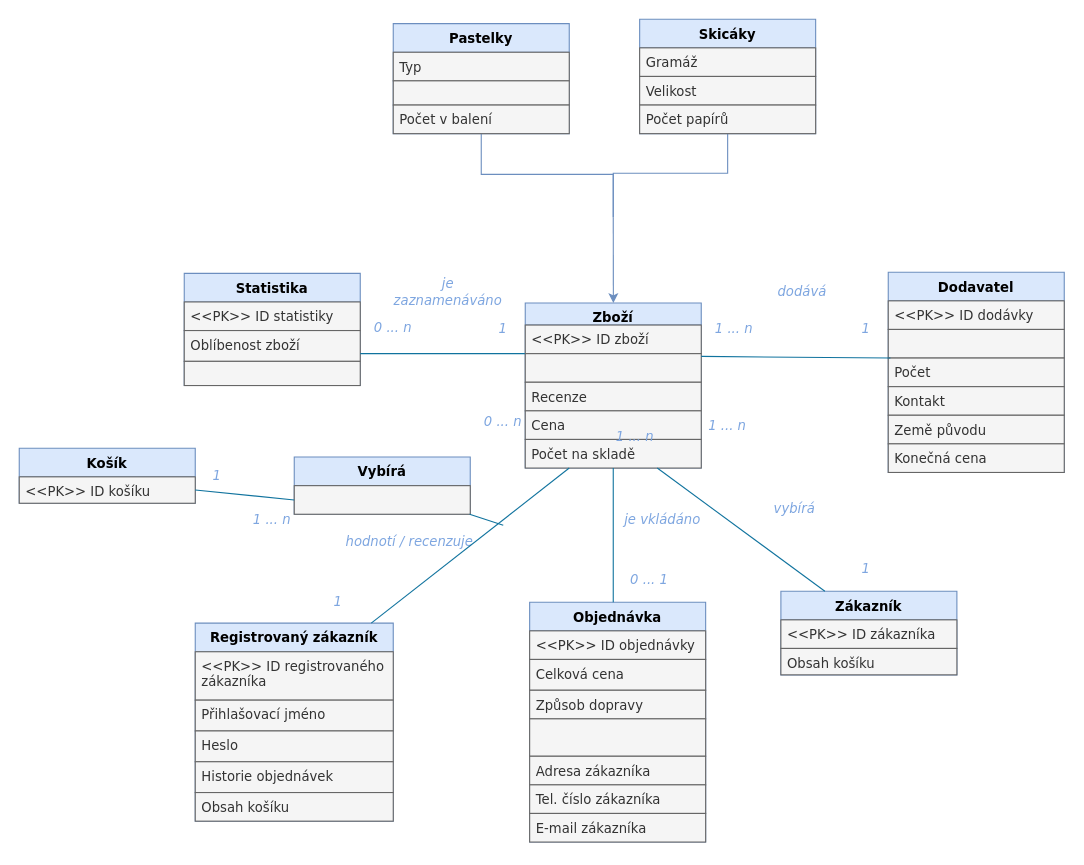
Some shapes in this 1084 by 865 pixel diagram are drawn without their labels. Here are the shapes that lost their labels. From the top down, the centre of each, then its label:
At (480,92): "Délka".
At (975,343): "Druh zboží".
At (271,373): "Prodejnost zboží".
At (612,367): "Hodnocení".
At (381,499): "Množství".
At (617,737): "Předpokládané datum doručení".
